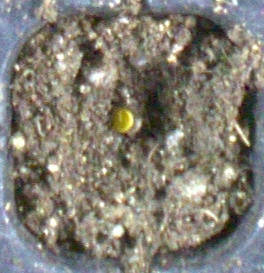chilli seed: (111, 108, 133, 133)
